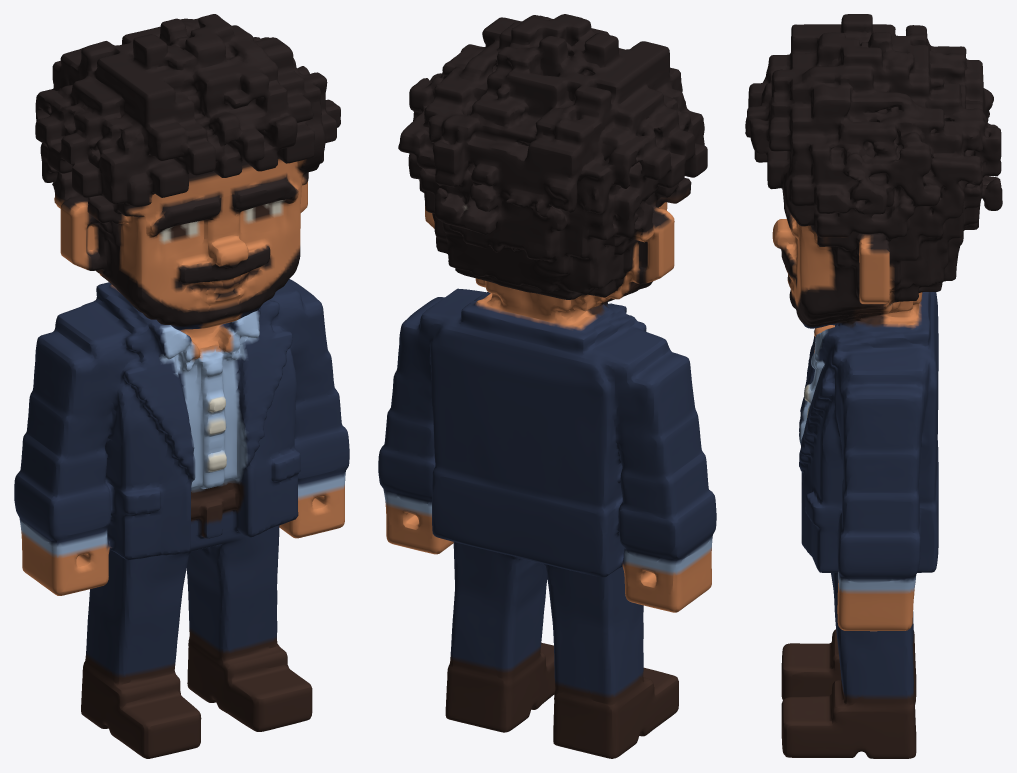
File: naveen-portfolio.glb
The picture shows the model from 3 angles, left to right: view 1: azimuth 30°, elevation 25°; view 2: azimuth 150°, elevation 25°; view 3: azimuth 270°, elevation 25°; orthographic projection.
Visible parts, largest first — view 1: Naveen; view 2: Naveen; view 3: Naveen.
Part boxes in pixels (<box>): Naveen: <box>14,14,349,758</box>; Naveen: <box>378,14,716,758</box>; Naveen: <box>745,14,1002,758</box>.
Size of the model in its own units: 0.898 by 1.96 by 0.6705.
